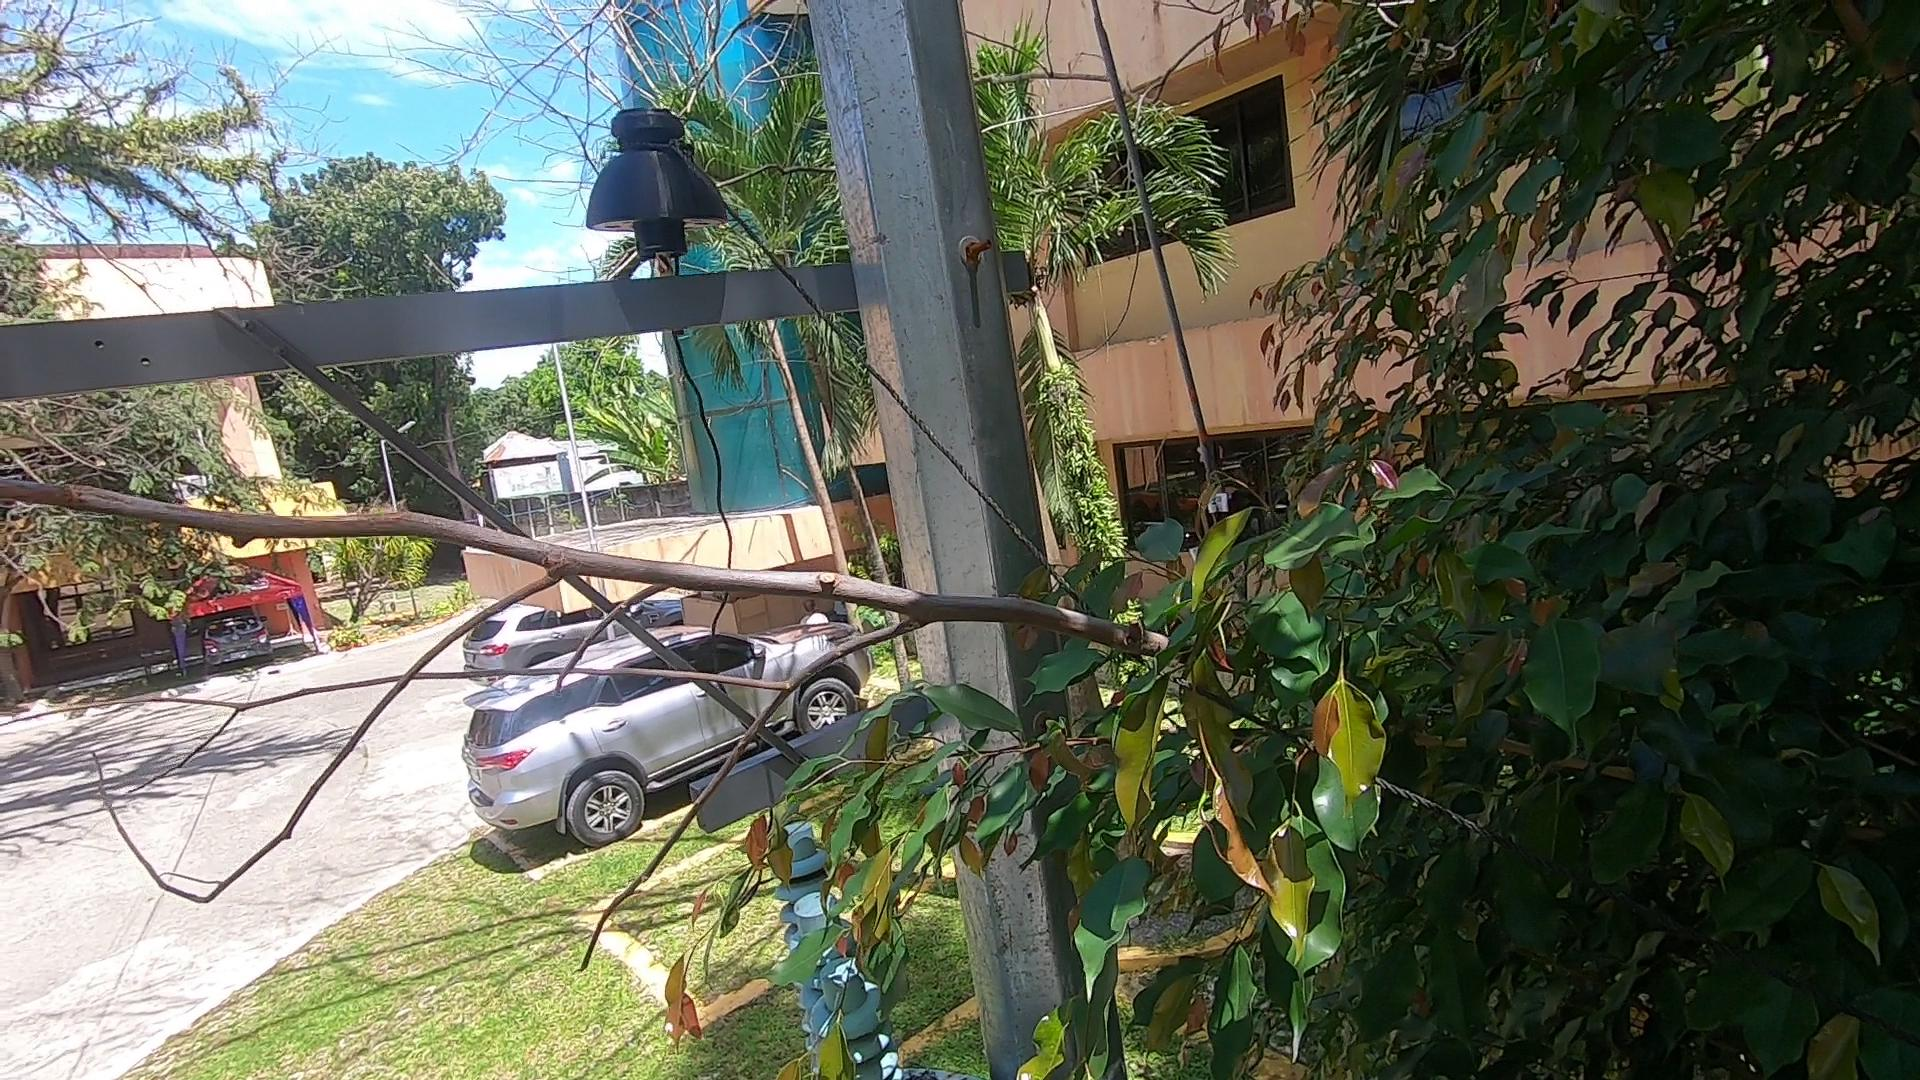tree branch: (1, 455, 1221, 1017)
